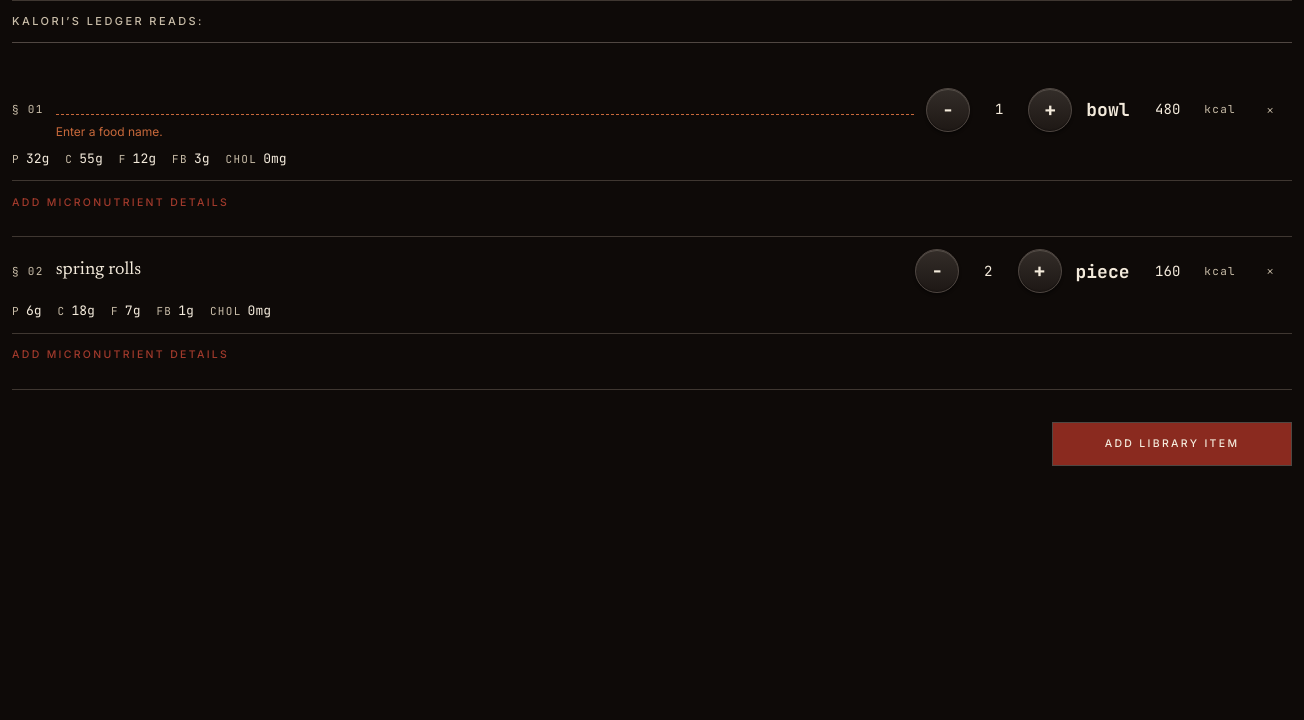
Test case: <ConfirmationScreen /> › E.CODEX Round-2 — library-only mode persistence + dedup surface › C1: if a row name is empty, surfaces a single-row error and aborts the batch
This screenshot has width=1304, height=720.
Step 1. Click the button with test id "confirmation-save" → (1172,444), box [1052,422,1292,466]
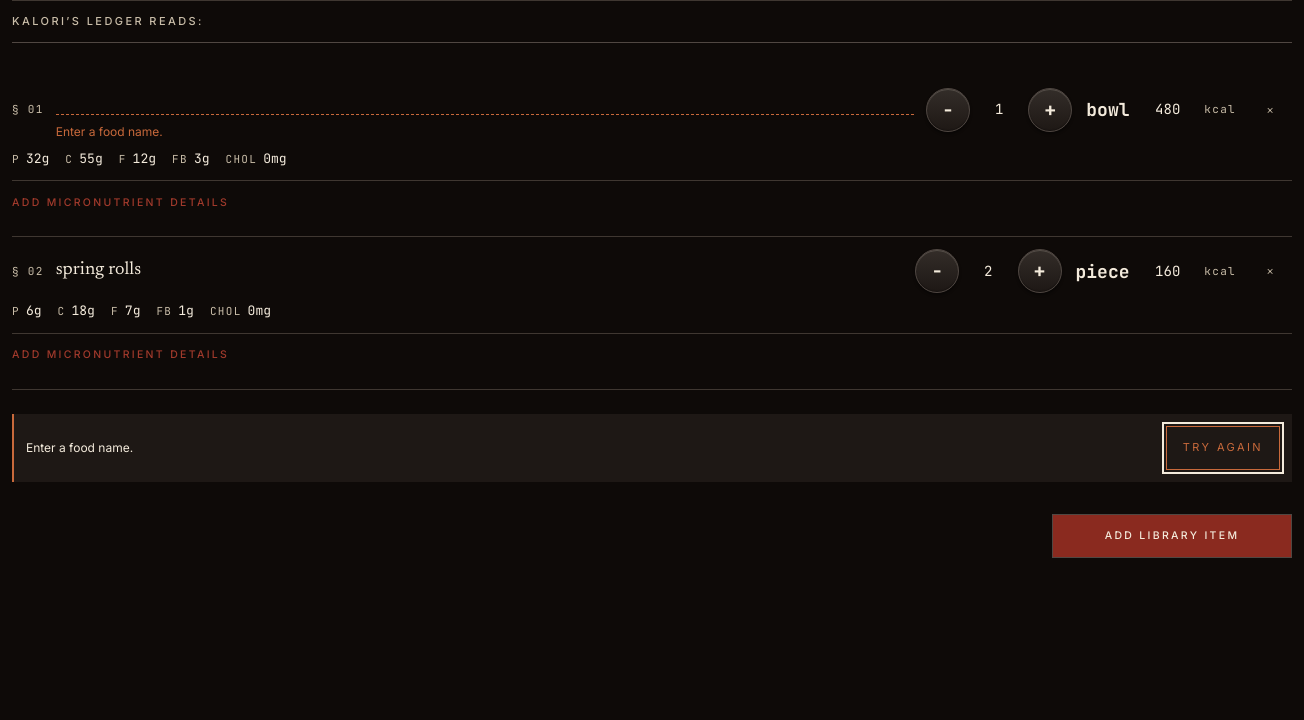
Now the message "Enter a food name. TRY AGAIN" is shown, box [12,414,1292,482]
